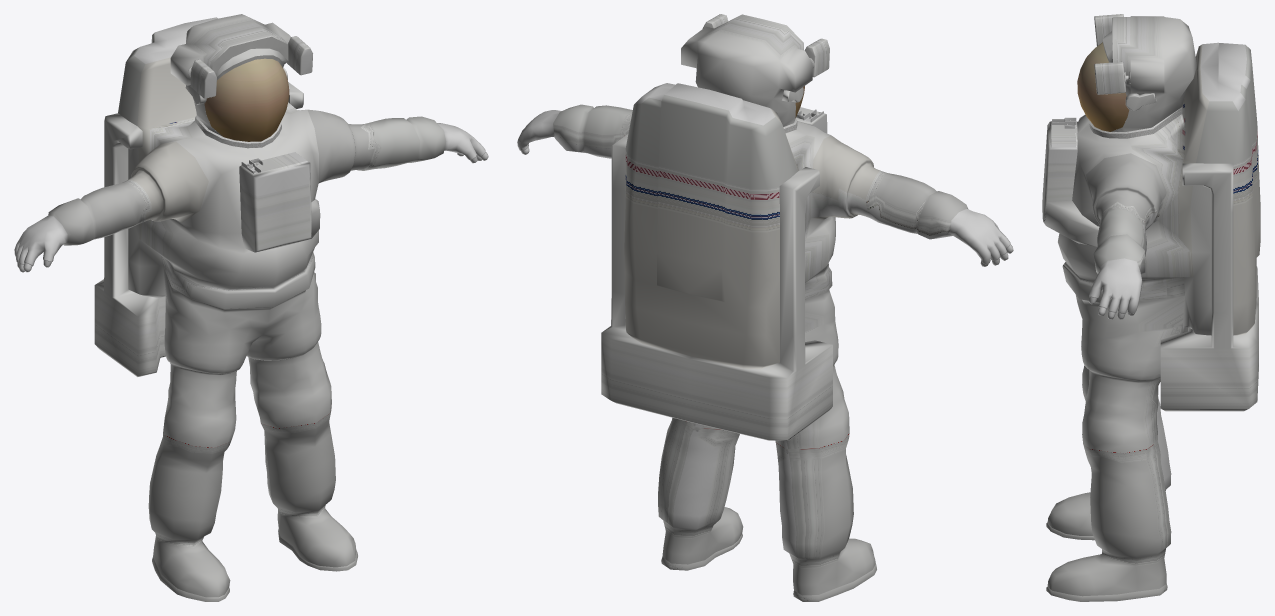
Rendered from astronaut-lite.glb.
3 renders of one model, left to right at view 1: azimuth 30°, elevation 25°; view 2: azimuth 150°, elevation 25°; view 3: azimuth 270°, elevation 25°, orthographic. The views are drawn at different scales.
Visible parts, largest first — view 1: astronaut1; view 2: astronaut1; view 3: astronaut1.
Part boxes in pixels (box(x1,y1,x2,y2)): astronaut1: box(14, 14, 488, 601); astronaut1: box(517, 14, 1013, 601); astronaut1: box(1042, 14, 1260, 601).
Size of the model in its own units: 68.91 by 74.26 by 27.6.
2 materials, 2 textured.
